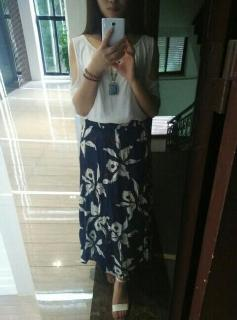short sleeve top: (69, 34, 160, 124)
skirt: (79, 118, 155, 279)
